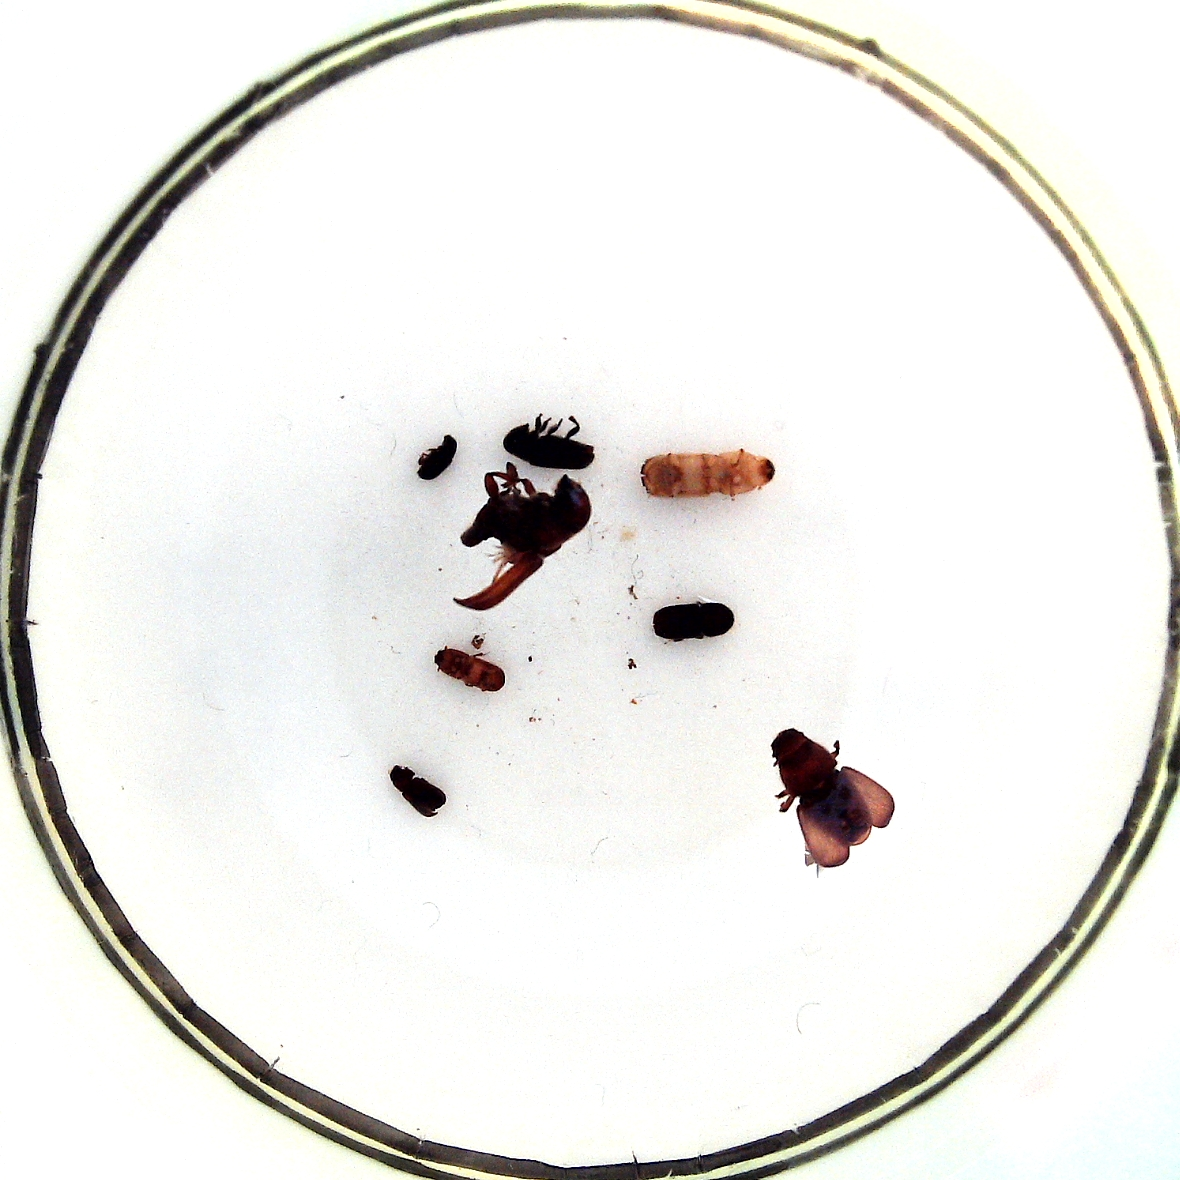Boerner: (640, 450, 775, 498)
Leconte: (772, 727, 873, 845), (461, 475, 592, 557)
acuminatus: (417, 435, 458, 481)
armandi: (502, 423, 595, 469)
coleoptera: (391, 764, 447, 817), (435, 646, 502, 690)
linnaeus: (654, 603, 734, 638)
